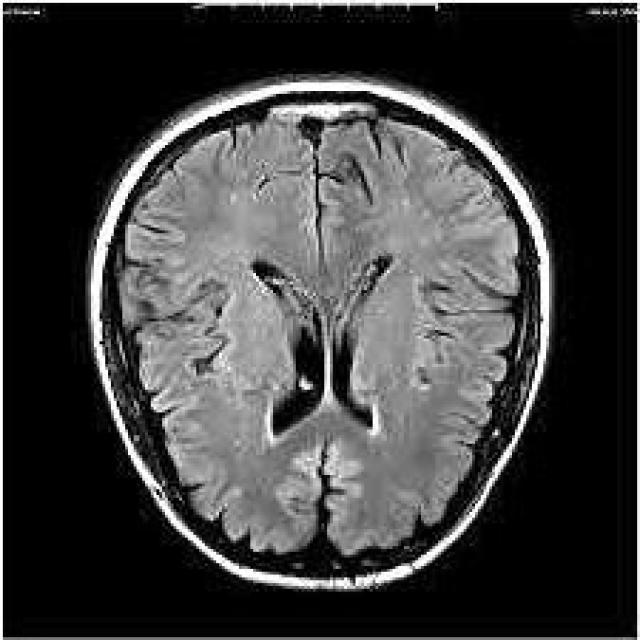notumor: (88, 74, 552, 589)
